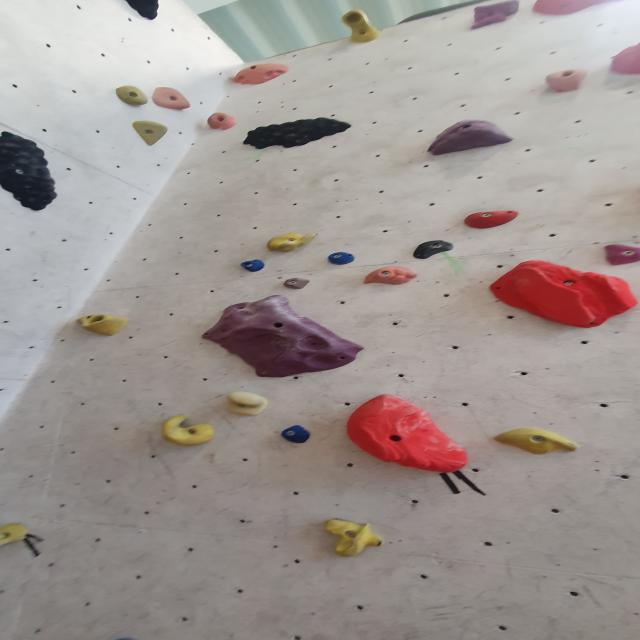Crimp: (194, 294, 366, 386), (488, 423, 587, 464), (464, 0, 518, 29), (460, 208, 524, 232), (601, 241, 640, 268), (276, 422, 314, 446), (324, 249, 361, 267), (236, 259, 269, 276), (280, 276, 313, 292)
Jug: (0, 129, 65, 212), (243, 115, 355, 148), (320, 518, 390, 562), (158, 411, 220, 449), (337, 6, 383, 46), (220, 387, 271, 420), (129, 117, 172, 148), (150, 86, 194, 116), (119, 0, 167, 23), (113, 85, 151, 111), (0, 521, 31, 551), (207, 110, 240, 132)
Pinch: (483, 252, 639, 333), (260, 230, 325, 254), (541, 69, 591, 94)
Pocket: (73, 312, 132, 340)
Sloper: (338, 392, 471, 475), (422, 116, 520, 160), (600, 4, 640, 81), (526, 0, 636, 22), (230, 62, 294, 89), (360, 266, 420, 291)
